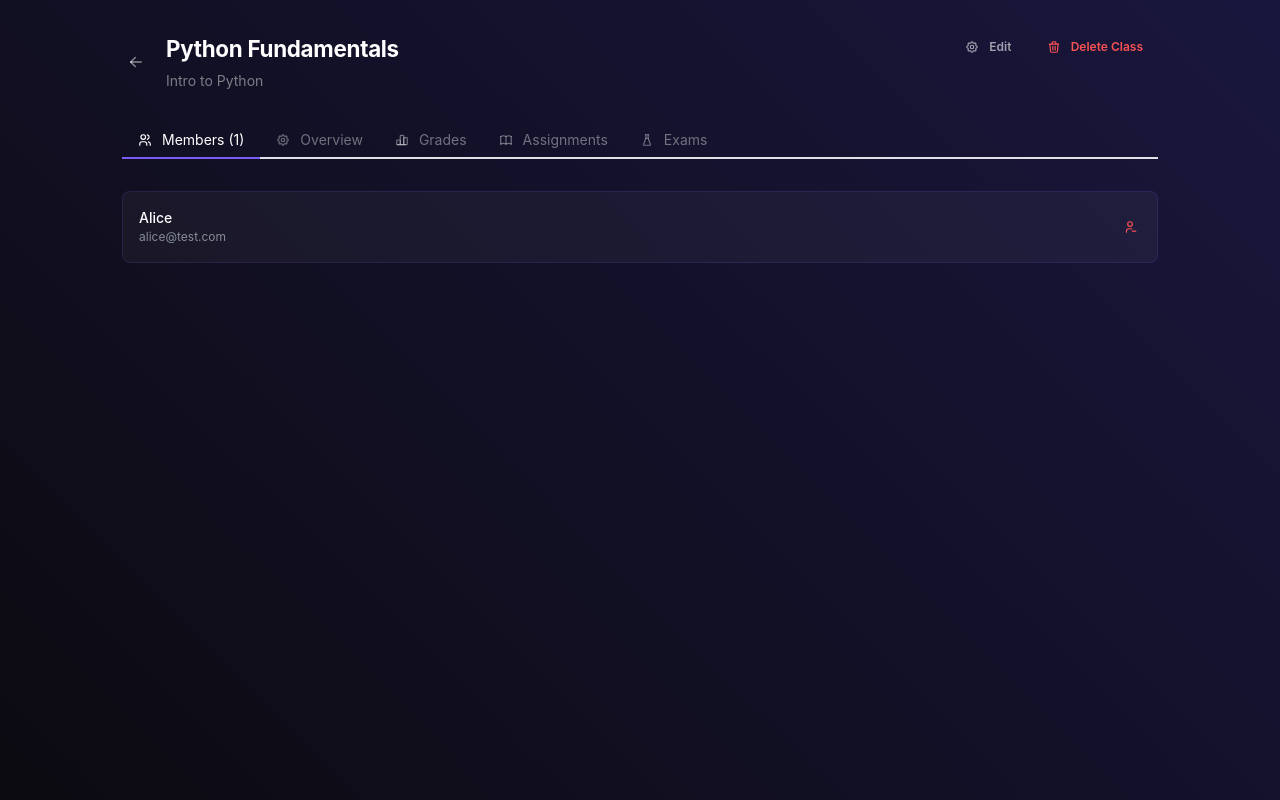
Scenario: TeacherClassPage Component tests › should render join code in overview tab
Click the tab "Overview" at (320, 141), box top-left (260, 123), bottom-right (379, 159)
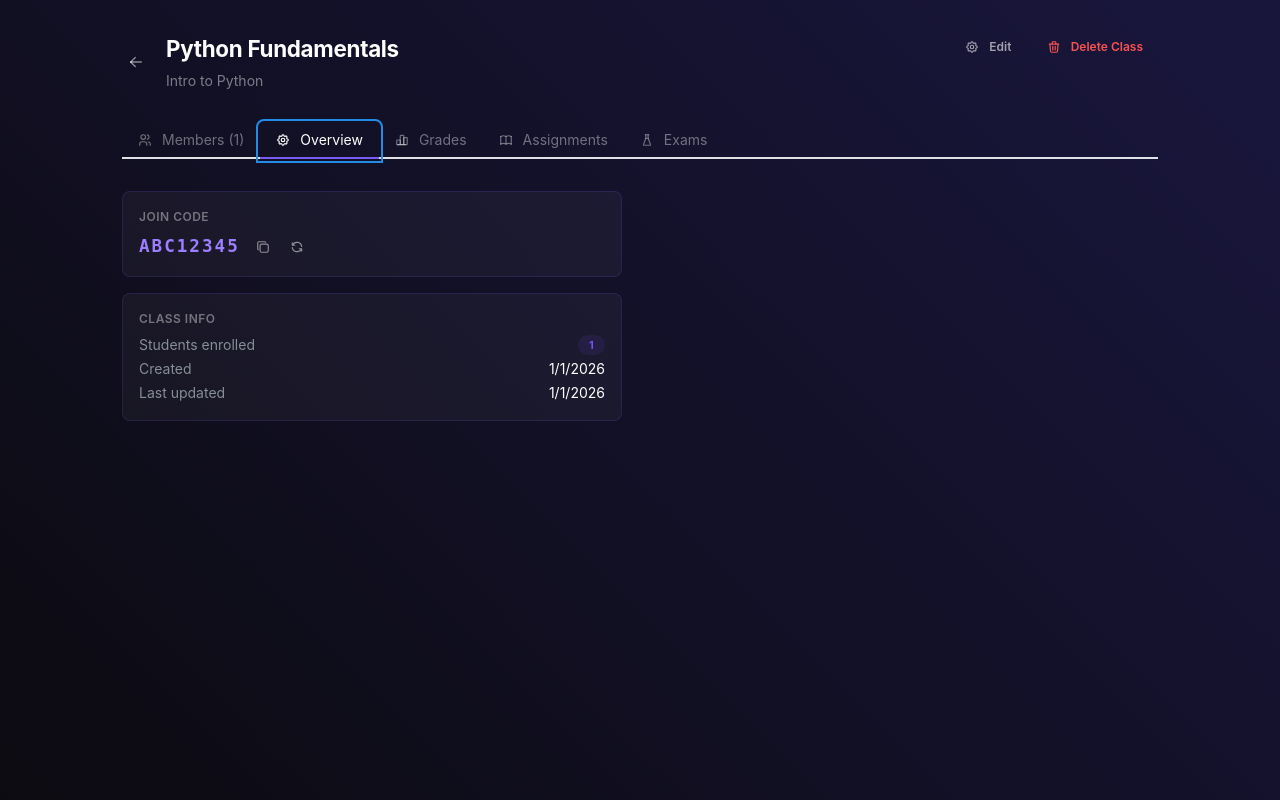
Check: the text "ABC12345" is shown, box top-left (139, 233), bottom-right (240, 260)
